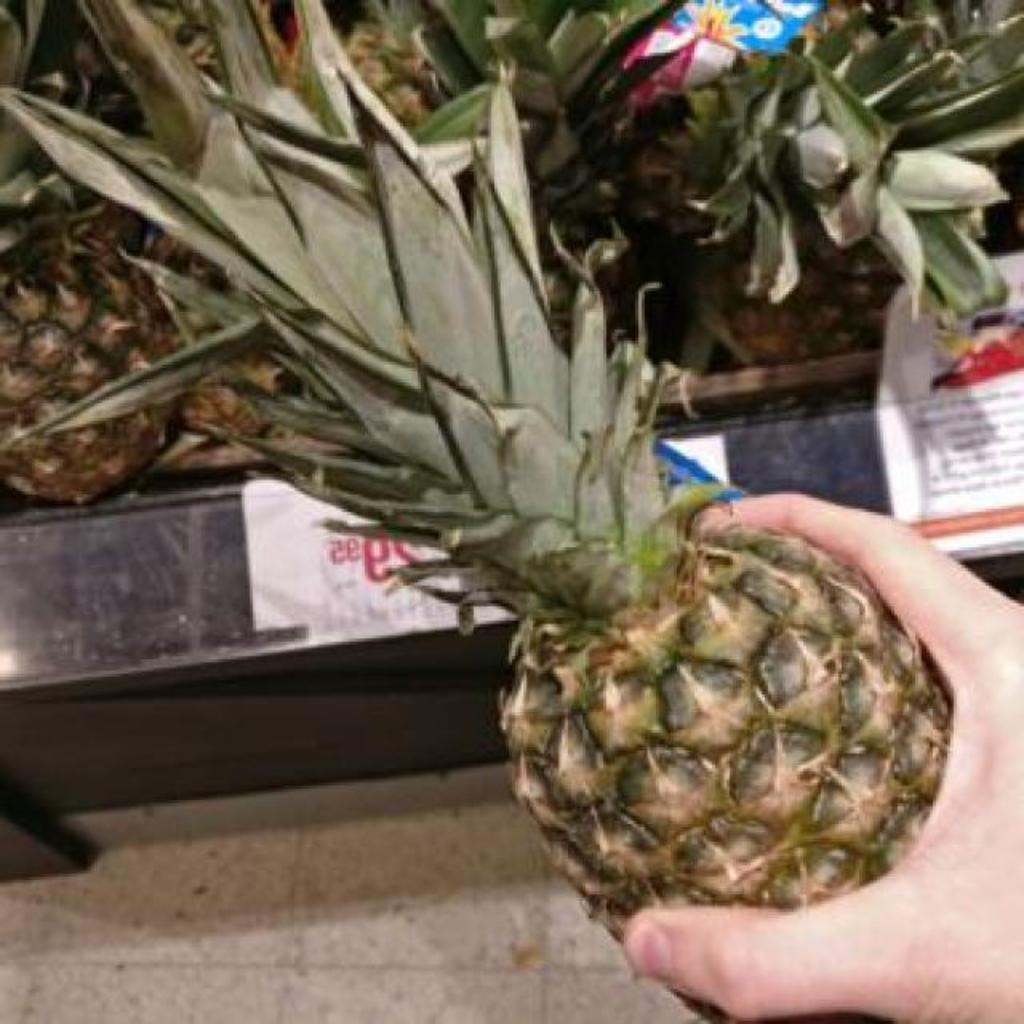pineapple: (0, 0, 942, 917)
